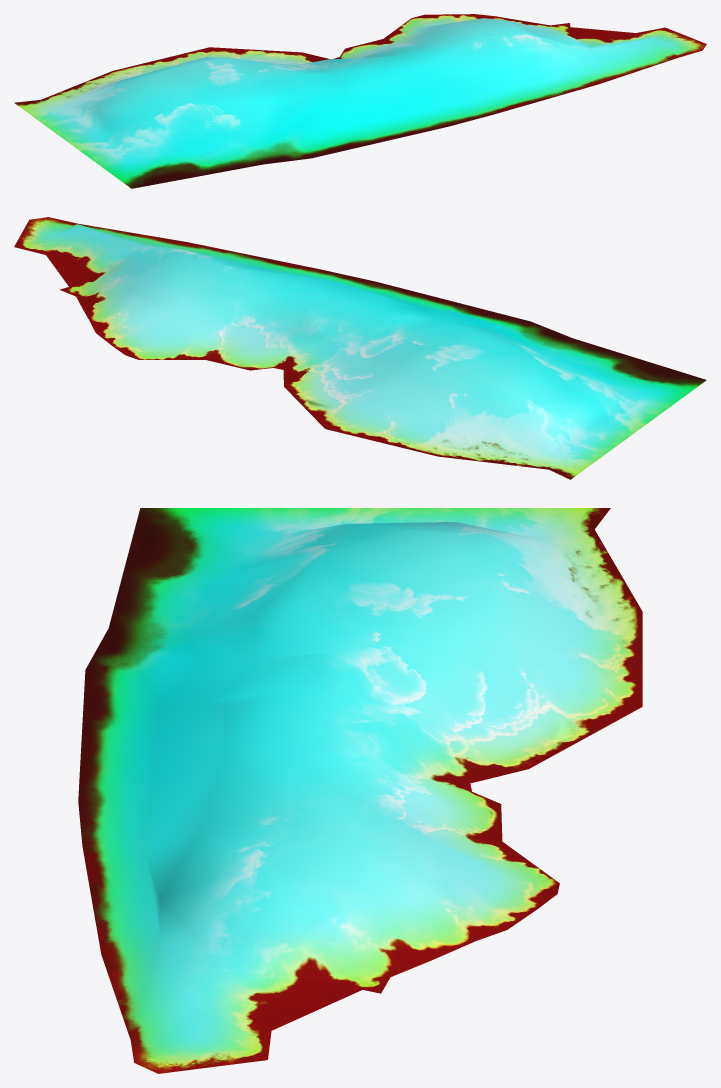
Rendered from Mesh_QuantumMetaCloud_2.FBX.
The picture shows the model from 3 angles, top to bottom: view 1: azimuth 30°, elevation 25°; view 2: azimuth 150°, elevation 25°; view 3: azimuth 270°, elevation 25°; orthographic projection. The views are drawn at different scales.
Visible parts, largest first — view 1: Mesh_QuantumMetaCloud_2; view 2: Mesh_QuantumMetaCloud_2; view 3: Mesh_QuantumMetaCloud_2.
Boxes of the visible parts, <box> form: Mesh_QuantumMetaCloud_2: <box>14,14,706,188</box>; Mesh_QuantumMetaCloud_2: <box>14,217,706,479</box>; Mesh_QuantumMetaCloud_2: <box>78,508,642,1073</box>.
Size of the model in its own units: 998 by 421 by 52.05.
